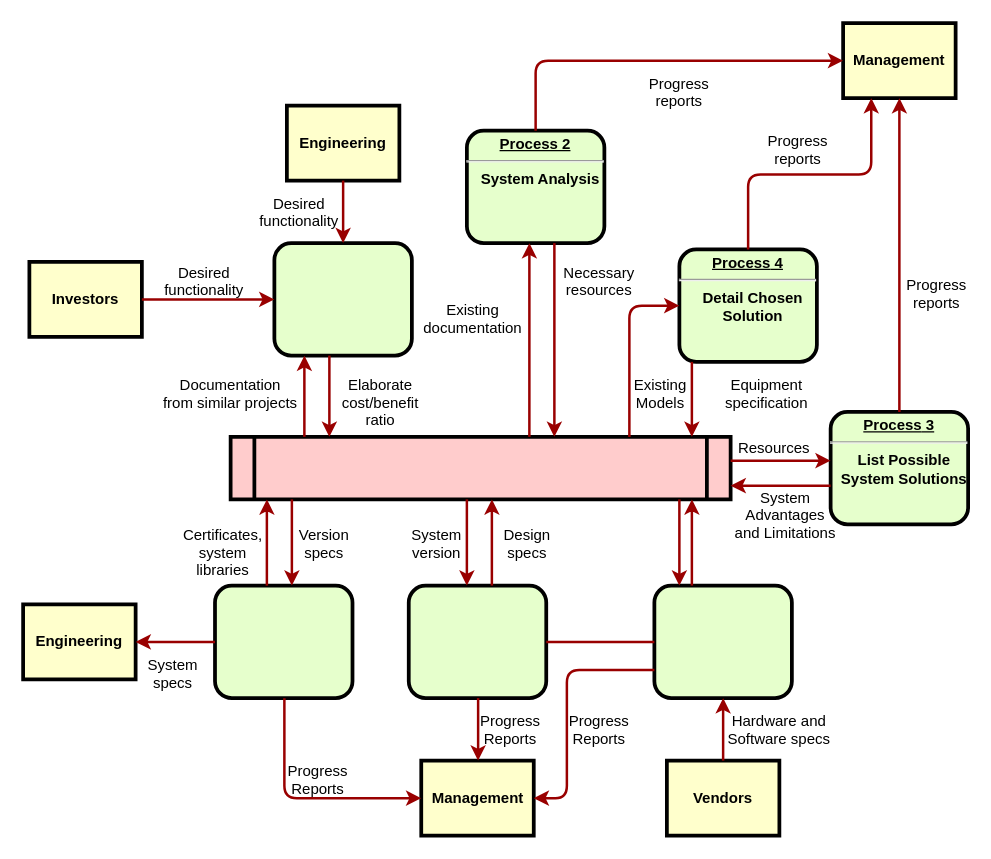
Image size: 991x859. Some labels were removed from this diagram. Here are the shapes that lost their labels. From the top down, the centre of each, then its label:
At point (342, 299): "Process 1 System Study Preparation".
At point (480, 467): "ON-DEMAND SYSTEM DEVELOPMENT".
At point (283, 641): "Process 6 New System Construction".
At point (477, 641): "Process 7 New System Startup and Testing".
At point (722, 641): "Process 5 New System Design".
